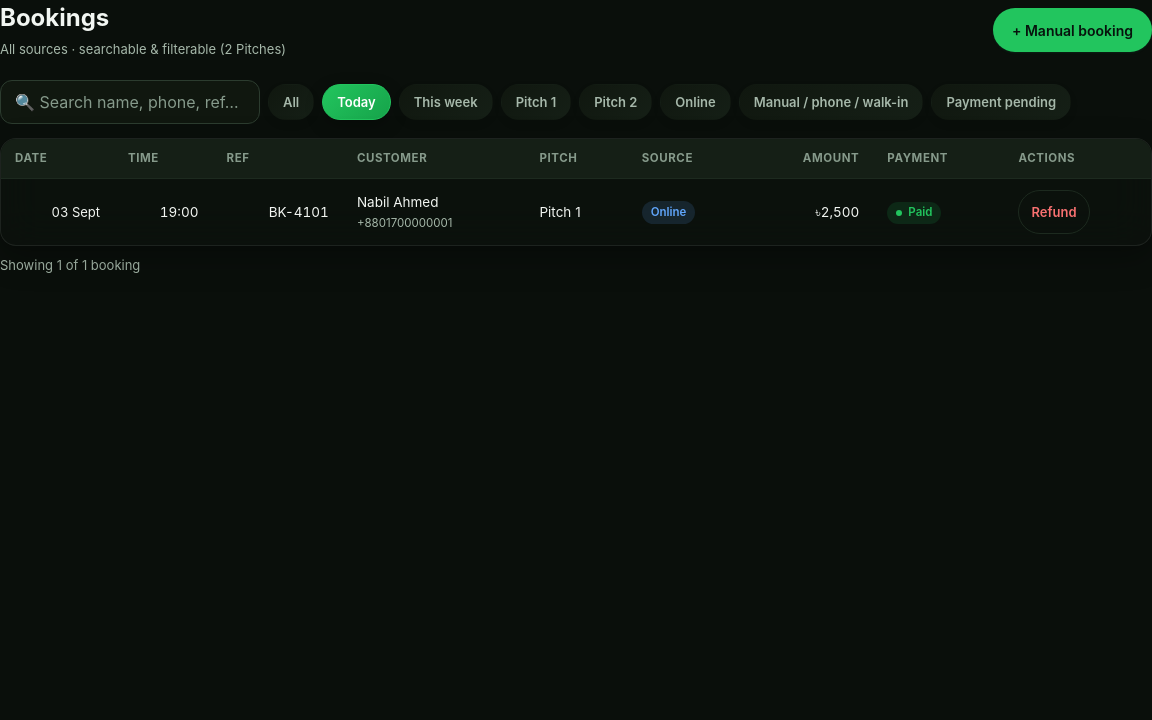
Test: Owner BookingsPage — row actions › cancelling the refund modal leaves the booking untouched
The image size is (1152, 720).
Expected: the text "BK-4101" is shown, [212,179,343,245]
Step 1. Click the button "Refund" → (1054, 212), box [1018,190,1090,234]
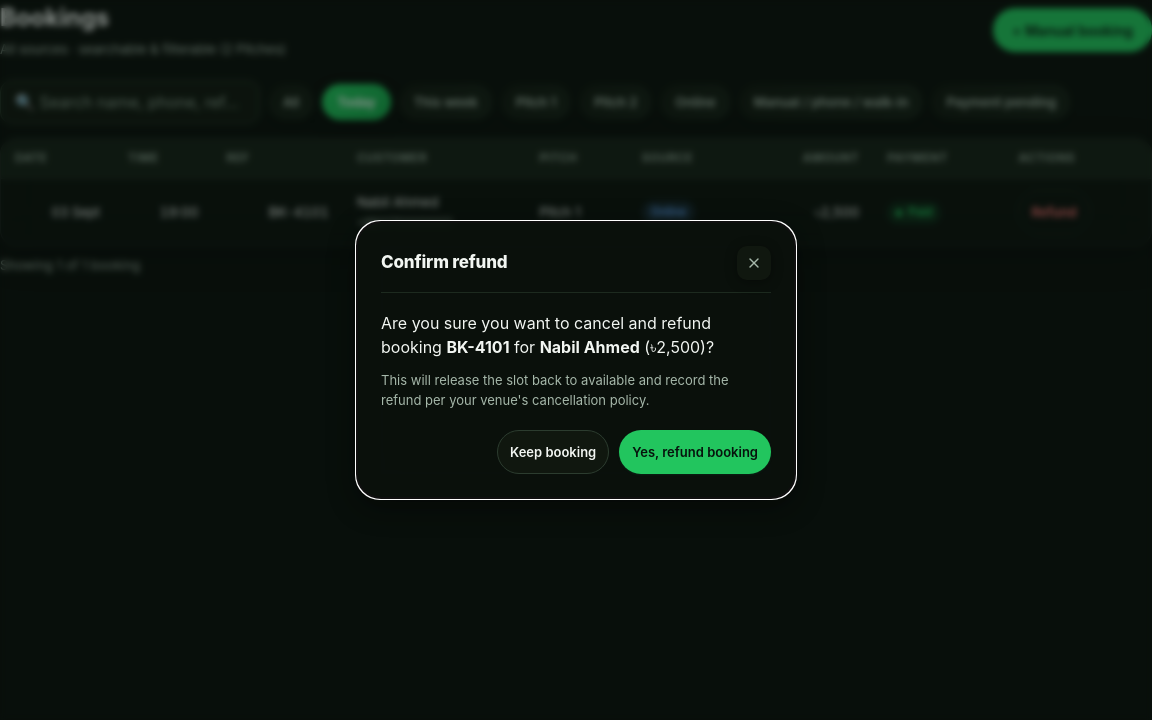
Result: the heading "Confirm refund" is shown at [381,250,508,276]
Step 2. Click the button "Keep booking" → (553, 452), box [497,430,609,474]
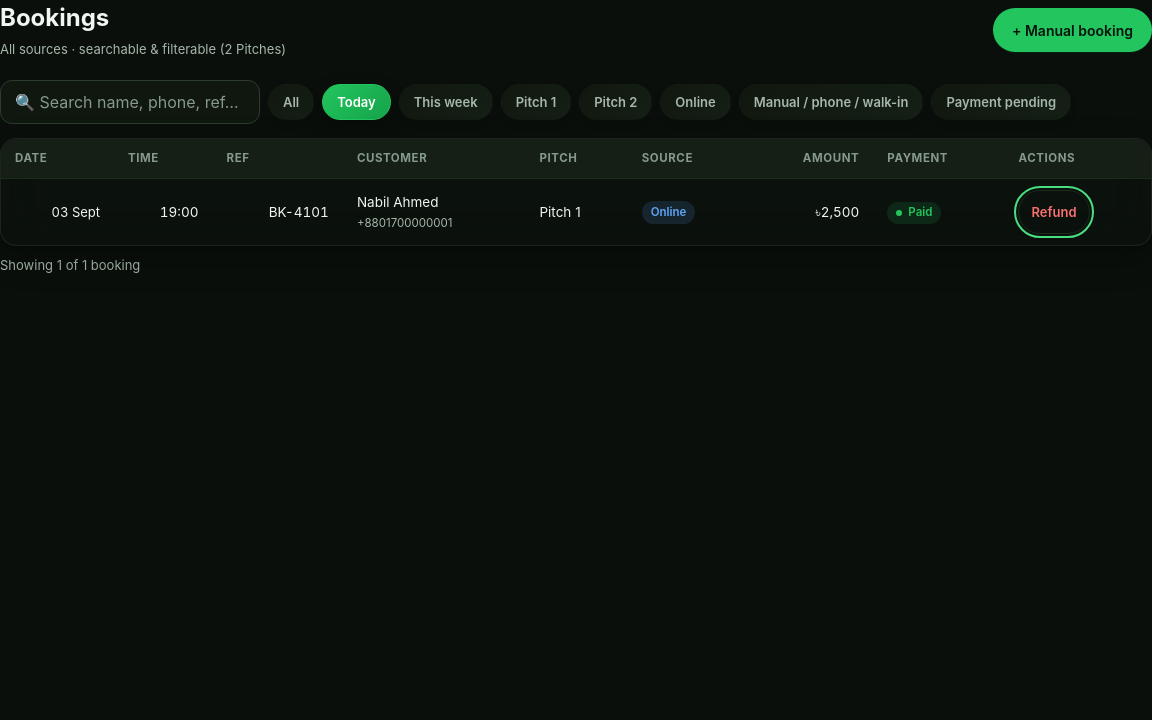
Result: the heading "Confirm refund" is gone
